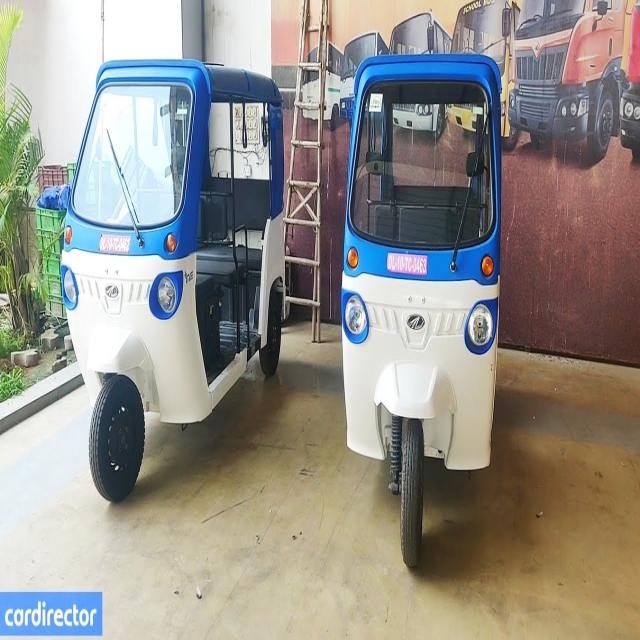autorickshaw: (61, 60, 285, 501), (341, 53, 501, 567)
